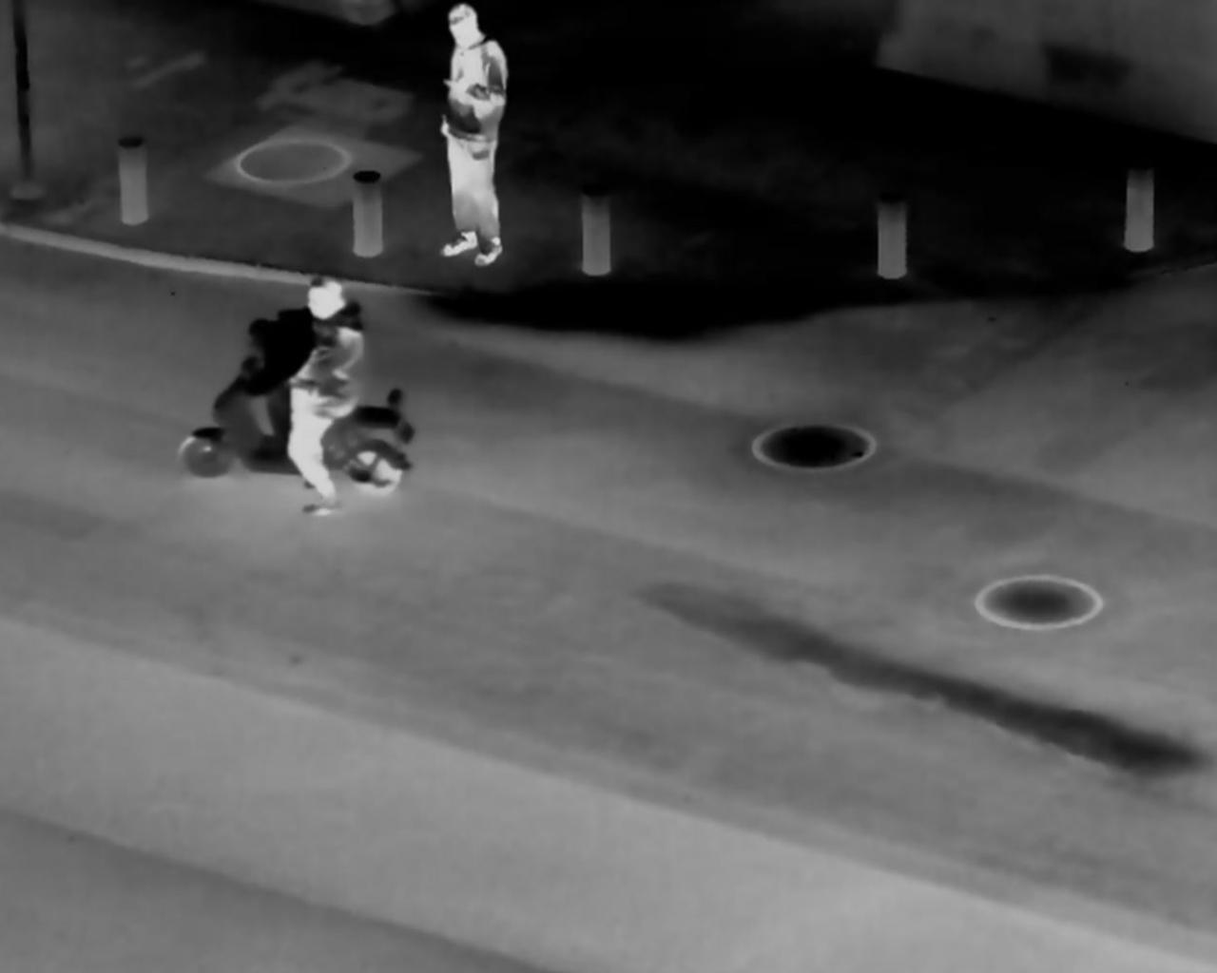person: (271, 267, 372, 524), (432, 8, 513, 267)
